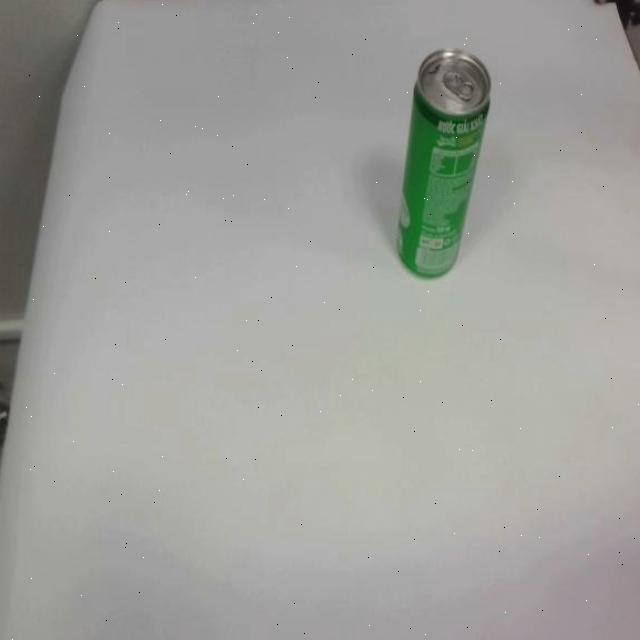debris: (396, 48, 493, 281)
